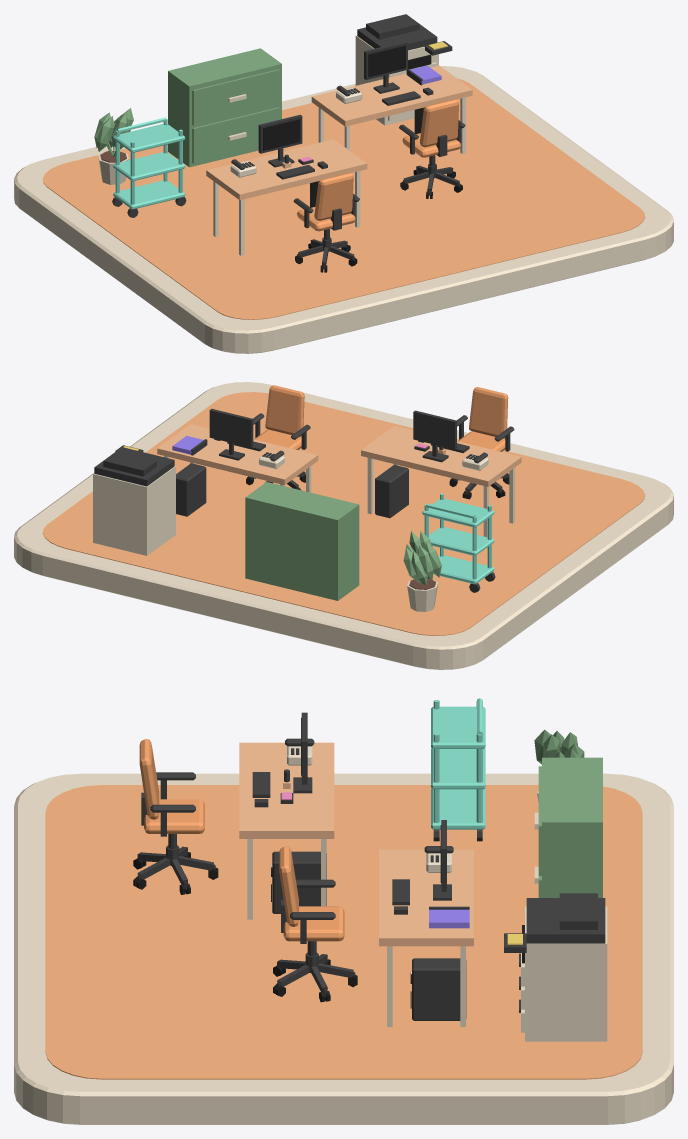
The model's file is room.fbx.
3 views of the same model, one above another, from view 1: azimuth 30°, elevation 25°; view 2: azimuth 150°, elevation 25°; view 3: azimuth 270°, elevation 25° (orthographic). The views are drawn at different scales.
Parts seen in each view (by area): view 1: COM-02 Floor Surface, COM-01 Rounded Base Direct, Cabinet, Top, Top.001, Body, COM-04_Chair_blender_direct, COM-04_Chair_blender_direct.001, Pot, Frame.001, Frame, Tray.002 (+2 smaller); view 2: COM-02 Floor Surface, COM-01 Rounded Base Direct, Cabinet, Body, Top, Top.001, COM-04_Chair_blender_direct, COM-04_Chair_blender_direct.001, Pot, Frame.001, Frame, Tower (+4 smaller); view 3: COM-02 Floor Surface, COM-01 Rounded Base Direct, Body, Cabinet, Top, Top.001, COM-04_Chair_blender_direct.001, COM-04_Chair_blender_direct, Tower.001, Tray.002, Tray.001, Tray (+5 smaller).
Part boxes in pixels (box(x1,y1,x2,y2)): COM-02 Floor Surface: box(42, 78, 645, 319); COM-01 Rounded Base Direct: box(14, 66, 673, 353); Cabinet: box(168, 48, 281, 167); Top: box(206, 139, 367, 255); Top.001: box(311, 65, 472, 153); Body: box(355, 14, 452, 125); COM-04_Chair_blender_direct: box(293, 173, 359, 272); COM-04_Chair_blender_direct.001: box(399, 99, 465, 198); Pot: box(94, 108, 133, 184); Frame.001: box(364, 41, 407, 93); Frame: box(258, 114, 302, 167); Tray.002: box(113, 123, 185, 152); COM-02 Floor Surface: box(42, 392, 645, 635); COM-01 Rounded Base Direct: box(14, 382, 673, 669); Cabinet: box(245, 482, 359, 600); Body: box(93, 445, 175, 555); Top: box(361, 426, 521, 537); Top.001: box(157, 424, 318, 492); COM-04_Chair_blender_direct: box(449, 387, 514, 499); COM-04_Chair_blender_direct.001: box(246, 385, 310, 489); Pot: box(403, 531, 441, 611); Frame.001: box(209, 408, 253, 460); Frame: box(413, 410, 456, 462); Tower: box(375, 465, 408, 518); COM-02 Floor Surface: box(45, 785, 642, 1079); COM-01 Rounded Base Direct: box(14, 773, 673, 1124); Body: box(504, 893, 607, 1041); Cabinet: box(534, 757, 602, 897); Top: box(239, 742, 334, 919); Top.001: box(379, 849, 473, 1026); COM-04_Chair_blender_direct.001: box(273, 846, 357, 1002); COM-04_Chair_blender_direct: box(133, 739, 218, 894); Tower.001: box(412, 958, 466, 1020); Tray.002: box(431, 706, 485, 748); Tray.001: box(431, 748, 485, 789); Tray: box(431, 788, 485, 829).
Bounding box in the file's own units: 600 × 161 × 520.
